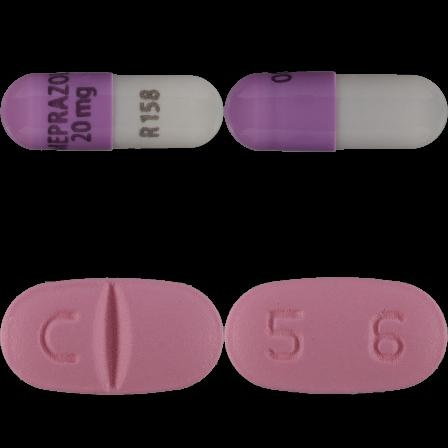35356-891: (0, 0, 224, 224)
